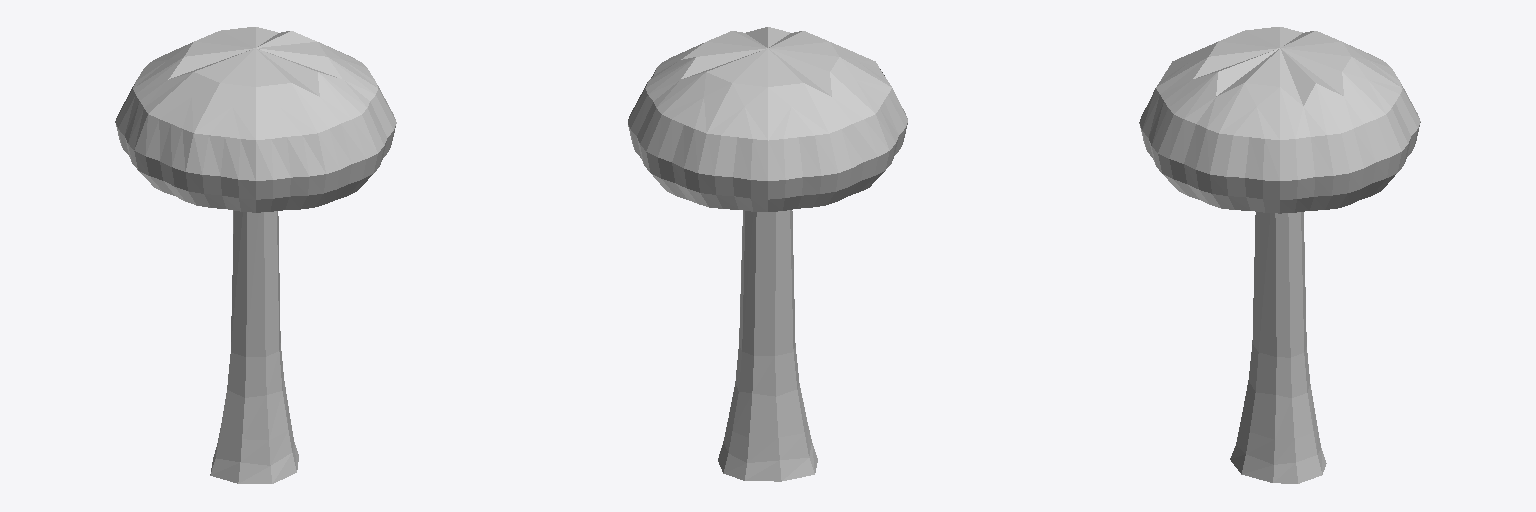
Rendered from O_JungleWorldTree_c.obj.
3 views of the same model, side by side, from view 1: azimuth 30°, elevation 25°; view 2: azimuth 150°, elevation 25°; view 3: azimuth 270°, elevation 25° (orthographic).
Parts seen in each view (by area): view 1: Tree_Thick_Single_Tree_Single_Asteroid_Asteroid_highpoly_Icosphe; view 2: Tree_Thick_Single_Tree_Single_Asteroid_Asteroid_highpoly_Icosphe; view 3: Tree_Thick_Single_Tree_Single_Asteroid_Asteroid_highpoly_Icosphe.
Boxes of the visible parts, x1,y1,x2,y2 form: Tree_Thick_Single_Tree_Single_Asteroid_Asteroid_highpoly_Icosphe: [115, 27, 396, 483]; Tree_Thick_Single_Tree_Single_Asteroid_Asteroid_highpoly_Icosphe: [628, 27, 907, 481]; Tree_Thick_Single_Tree_Single_Asteroid_Asteroid_highpoly_Icosphe: [1139, 27, 1420, 483].
Size of the model in its own units: 11.98 by 19.55 by 12.